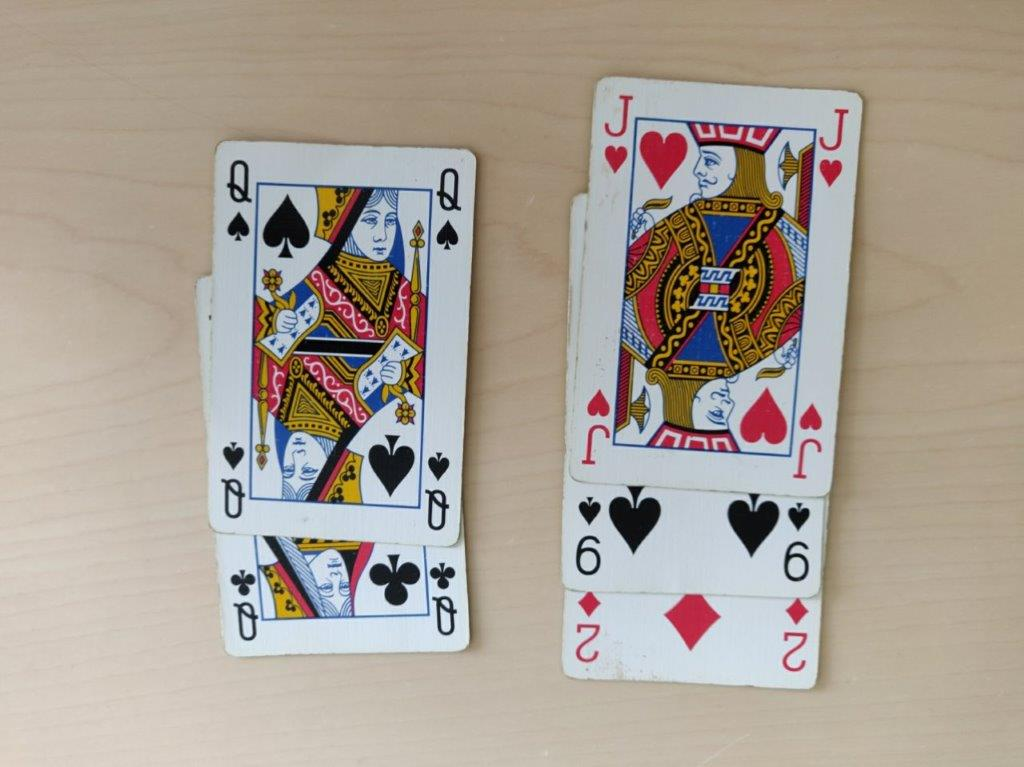2D: (566, 591, 816, 689)
6S: (569, 483, 818, 590)
JH: (578, 86, 851, 487)
QC: (217, 534, 473, 656)
QS: (209, 148, 461, 533)
